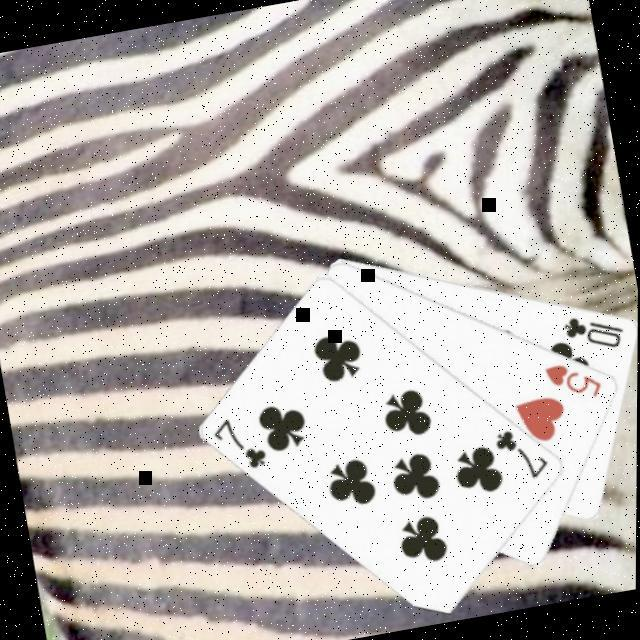10C: (558, 305, 629, 359)
5H: (540, 354, 608, 409)
7C: (489, 420, 554, 488), (208, 410, 272, 479)
